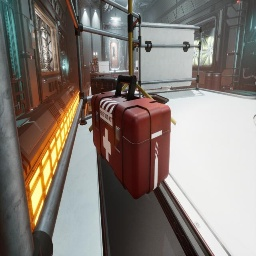0: (167, 89, 172, 90), (102, 72, 106, 72)
EmergencyPhone ,: (70, 68, 72, 72), (106, 54, 107, 58), (106, 56, 107, 56), (71, 69, 72, 69)
FireExtinguisher ]: (135, 89, 136, 91), (134, 69, 135, 70), (134, 70, 134, 71)
FirstAidBox ,: (91, 75, 171, 200), (91, 69, 95, 73), (113, 69, 116, 72)
NitrogenTank ,: (90, 61, 95, 72)
SafetySwitchPanel ,: (26, 19, 36, 49)
